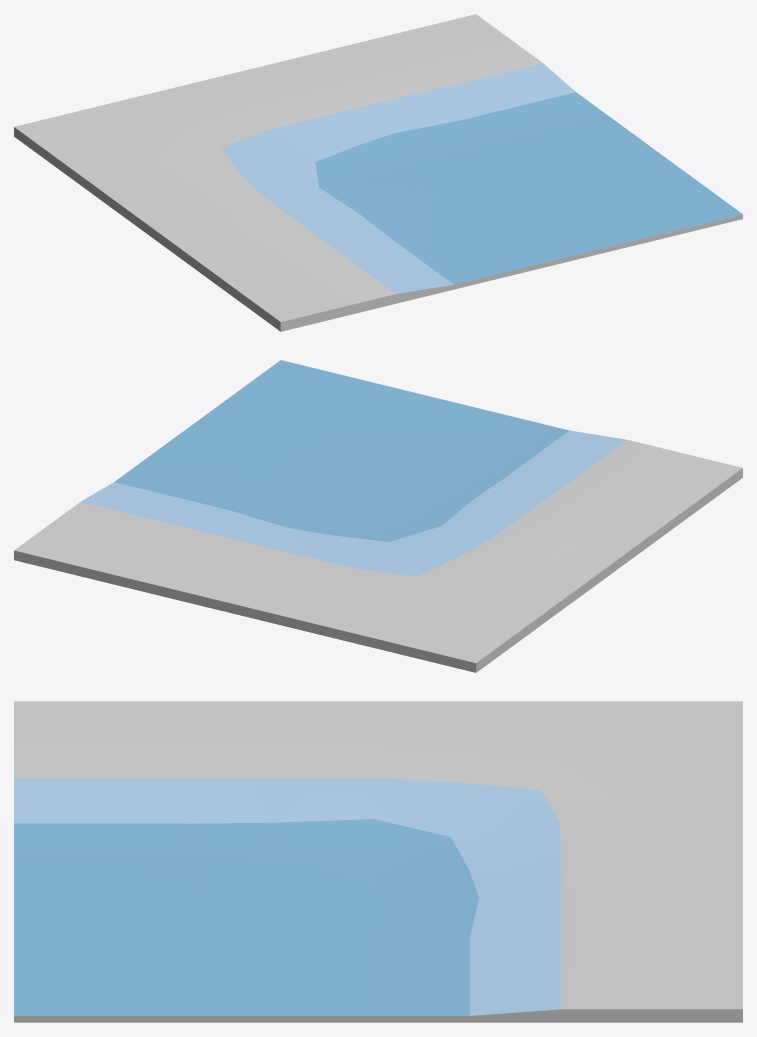
The model's file is water_convex_1.glb.
The picture shows the model from 3 angles, top to bottom: view 1: azimuth 30°, elevation 25°; view 2: azimuth 150°, elevation 25°; view 3: azimuth 270°, elevation 25°; orthographic projection. The views are drawn at different scales.
Visible parts, largest first — view 1: water_convex_1; view 2: water_convex_1; view 3: water_convex_1.
Part boxes in pixels (<box>): water_convex_1: <box>14,14,742,331</box>; water_convex_1: <box>14,360,742,672</box>; water_convex_1: <box>14,701,742,1022</box>.
Bounding box in the file's own units: 2 × 0.0418 × 2.
